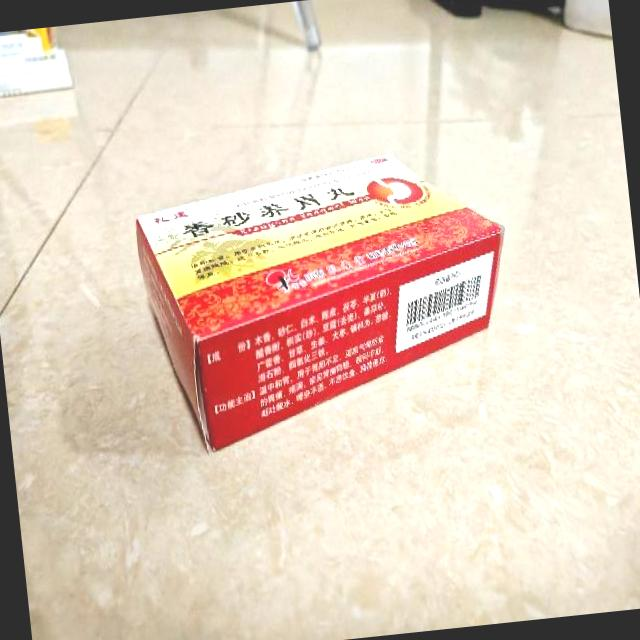box: (131, 142, 524, 456)
